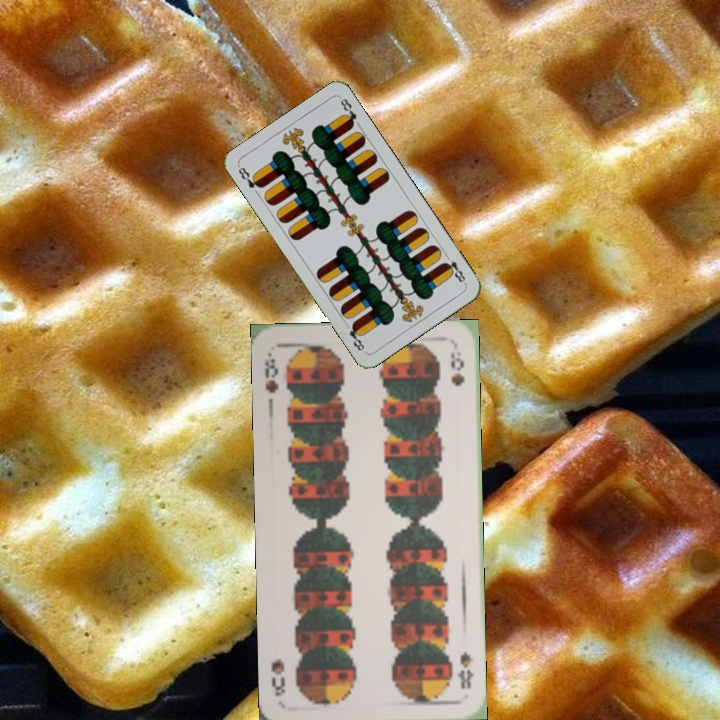E8: (439, 250, 468, 286), (234, 162, 265, 191)
S8: (454, 647, 476, 692), (260, 349, 281, 396)
